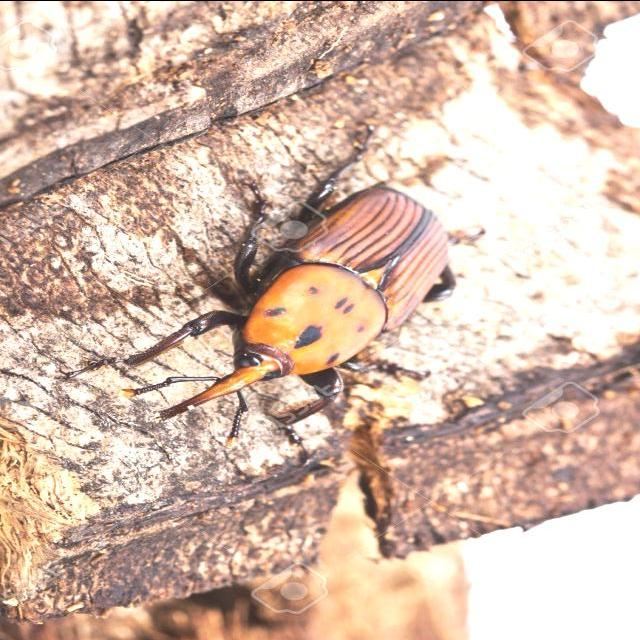Red-palm-weevil: (119, 183, 459, 451)
